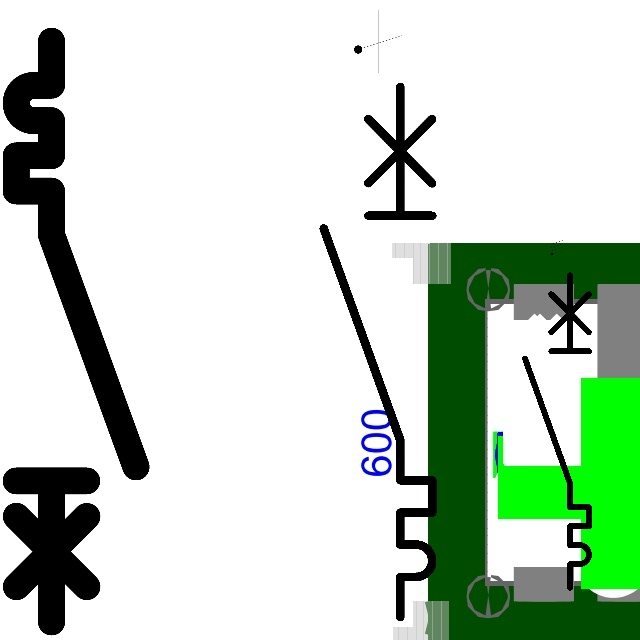interruptor_termomagnetico: (1, 26, 150, 637), (310, 73, 446, 631), (517, 267, 597, 595)
